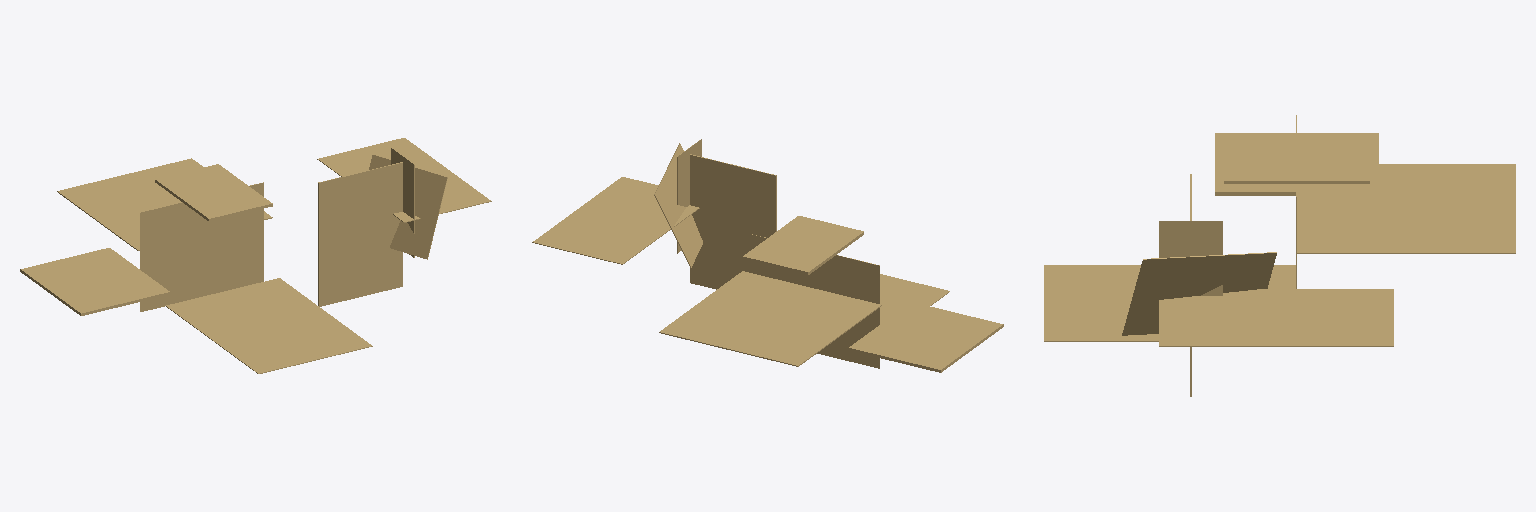
The robot description file, URDF, robot "evolved_design":
<?xml version="1.0" ?>
<robot name="evolved_design">
  <link name="base_link">
    <inertial>
      <mass value="0.001"/>
      <origin xyz="0 0 0" rpy="0 0 0"/>
      <inertia ixx="0.000001" ixy="0" ixz="0" iyy="0.000001" iyz="0" izz="0.000001"/>
    </inertial>
  </link>
  <link name="link_comp_0">
    <inertial>
      <mass value="0.768596"/>
      <origin xyz="0 0 0" rpy="0 0 0"/>
      <inertia ixx="0.034113626" ixy="0" ixz="0" iyy="0.017103133" iyz="0" izz="0.051215608"/>
    </inertial>
    <visual>
      <origin xyz="0 0 0" rpy="0 0 0"/>
      <geometry>
        <box size="0.516740 0.729796 0.002997"/>
      </geometry>
      <material name="link_comp_0_material">
        <color rgba="0.8 0.7 0.5 1"/>
      </material>
    </visual>
    <collision>
      <origin xyz="0 0 0" rpy="0 0 0"/>
      <geometry>
        <box size="0.516740 0.729796 0.002997"/>
      </geometry>
    </collision>
  </link>
  <joint name="base_link_to_link_comp_0" type="fixed">
    <parent link="base_link"/>
    <child link="link_comp_0"/>
    <origin xyz="0.258370 0.364898 0.001499" rpy="0.000000 0.000000 0.000000"/>
  </joint>
  <link name="link_comp_1">
    <inertial>
      <mass value="0.658332"/>
      <origin xyz="0 0 0" rpy="0 0 0"/>
      <inertia ixx="0.015854358" ixy="0" ixz="0" iyy="0.023740530" iyz="0" izz="0.007888647"/>
    </inertial>
    <visual>
      <origin xyz="0 0 0" rpy="0 0 0"/>
      <geometry>
        <box size="0.379171 0.004750 0.537558"/>
      </geometry>
      <material name="link_comp_1_material">
        <color rgba="0.8 0.7 0.5 1"/>
      </material>
    </visual>
    <collision>
      <origin xyz="0 0 0" rpy="0 0 0"/>
      <geometry>
        <box size="0.379171 0.004750 0.537558"/>
      </geometry>
    </collision>
  </link>
  <joint name="base_link_to_link_comp_1" type="fixed">
    <parent link="base_link"/>
    <child link="link_comp_1"/>
    <origin xyz="0.706825 0.424635 0.268779" rpy="0.000000 0.000000 0.000000"/>
  </joint>
  <link name="link_comp_2">
    <inertial>
      <mass value="0.521573"/>
      <origin xyz="0 0 0" rpy="0 0 0"/>
      <inertia ixx="0.008094898" ixy="0" ixz="0" iyy="0.021715280" iyz="0" izz="0.013621258"/>
    </inertial>
    <visual>
      <origin xyz="0 0 0" rpy="0 0 0"/>
      <geometry>
        <box size="0.559803 0.003175 0.431546"/>
      </geometry>
      <material name="link_comp_2_material">
        <color rgba="0.8 0.7 0.5 1"/>
      </material>
    </visual>
    <collision>
      <origin xyz="0 0 0" rpy="0 0 0"/>
      <geometry>
        <box size="0.559803 0.003175 0.431546"/>
      </geometry>
    </collision>
  </link>
  <joint name="base_link_to_link_comp_2" type="fixed">
    <parent link="base_link"/>
    <child link="link_comp_2"/>
    <origin xyz="0.166134 0.731884 0.215773" rpy="0.000000 0.000000 0.000000"/>
  </joint>
  <link name="link_comp_3">
    <inertial>
      <mass value="1.053972"/>
      <origin xyz="0 0 0" rpy="0 0 0"/>
      <inertia ixx="0.015850476" ixy="0" ixz="0" iyy="0.007269775" iyz="0" izz="0.023091918"/>
    </inertial>
    <visual>
      <origin xyz="0 0 0" rpy="0 0 0"/>
      <geometry>
        <box size="0.287417 0.424623 0.012700"/>
      </geometry>
      <material name="link_comp_3_material">
        <color rgba="0.8 0.7 0.5 1"/>
      </material>
    </visual>
    <collision>
      <origin xyz="0 0 0" rpy="0 0 0"/>
      <geometry>
        <box size="0.287417 0.424623 0.012700"/>
      </geometry>
    </collision>
  </link>
  <joint name="base_link_to_link_comp_3" type="fixed">
    <parent link="base_link"/>
    <child link="link_comp_3"/>
    <origin xyz="0.220309 0.732444 0.438396" rpy="0.000000 0.000000 0.000000"/>
  </joint>
  <link name="link_comp_4">
    <inertial>
      <mass value="0.102988"/>
      <origin xyz="0 0 0" rpy="0 0 0"/>
      <inertia ixx="0.001696381" ixy="0" ixz="0" iyy="0.001405224" iyz="0" izz="0.000291228"/>
    </inertial>
    <visual>
      <origin xyz="0 0 0" rpy="0 0 0"/>
      <geometry>
        <box size="0.002032 0.184199 0.404636"/>
      </geometry>
      <material name="link_comp_4_material">
        <color rgba="0.8 0.7 0.5 1"/>
      </material>
    </visual>
    <collision>
      <origin xyz="0 0 0" rpy="0 0 0"/>
      <geometry>
        <box size="0.002032 0.184199 0.404636"/>
      </geometry>
    </collision>
  </link>
  <joint name="base_link_to_link_comp_4" type="fixed">
    <parent link="base_link"/>
    <child link="link_comp_4"/>
    <origin xyz="0.897927 0.424789 0.362100" rpy="0.000000 0.000000 0.000000"/>
  </joint>
  <link name="link_comp_5">
    <inertial>
      <mass value="1.179324"/>
      <origin xyz="0 0 0" rpy="0 0 0"/>
      <inertia ixx="0.039356623" ixy="0" ixz="0" iyy="0.036522899" iyz="0" izz="0.075875550"/>
    </inertial>
    <visual>
      <origin xyz="0 0 0" rpy="0 0 0"/>
      <geometry>
        <box size="0.609600 0.632808 0.004496"/>
      </geometry>
      <material name="link_comp_5_material">
        <color rgba="0.8 0.7 0.5 1"/>
      </material>
    </visual>
    <collision>
      <origin xyz="0 0 0" rpy="0 0 0"/>
      <geometry>
        <box size="0.609600 0.632808 0.004496"/>
      </geometry>
    </collision>
  </link>
  <joint name="base_link_to_link_comp_5" type="fixed">
    <parent link="base_link"/>
    <child link="link_comp_5"/>
    <origin xyz="0.181850 1.050376 0.267793" rpy="0.000000 0.000000 0.000000"/>
  </joint>
  <link name="link_comp_6">
    <inertial>
      <mass value="1.564937"/>
      <origin xyz="0 0 0" rpy="0 0 0"/>
      <inertia ixx="0.029473396" ixy="0" ixz="0" iyy="0.021295327" iyz="0" izz="0.050731235"/>
    </inertial>
    <visual>
      <origin xyz="0 0 0" rpy="0 0 0"/>
      <geometry>
        <box size="0.403918 0.475247 0.011989"/>
      </geometry>
      <material name="link_comp_6_material">
        <color rgba="0.8 0.7 0.5 1"/>
      </material>
    </visual>
    <collision>
      <origin xyz="0 0 0" rpy="0 0 0"/>
      <geometry>
        <box size="0.403918 0.475247 0.011989"/>
      </geometry>
    </collision>
  </link>
  <joint name="base_link_to_link_comp_6" type="fixed">
    <parent link="base_link"/>
    <child link="link_comp_6"/>
    <origin xyz="-0.316227 0.732447 0.178403" rpy="0.000000 0.000000 0.000000"/>
  </joint>
  <link name="link_comp_7">
    <inertial>
      <mass value="0.291925"/>
      <origin xyz="0 0 0" rpy="0 0 0"/>
      <inertia ixx="0.006711573" ixy="0" ixz="0" iyy="0.002691589" iyz="0" izz="0.004020474"/>
    </inertial>
    <visual>
      <origin xyz="0 0 0" rpy="0 0 0"/>
      <geometry>
        <box size="0.003175 0.406518 0.332613"/>
      </geometry>
      <material name="link_comp_7_material">
        <color rgba="0.8 0.7 0.5 1"/>
      </material>
    </visual>
    <collision>
      <origin xyz="0 0 0" rpy="0 0 0"/>
      <geometry>
        <box size="0.003175 0.406518 0.332613"/>
      </geometry>
    </collision>
  </link>
  <joint name="base_link_to_link_comp_7" type="fixed">
    <parent link="base_link"/>
    <child link="link_comp_7"/>
    <origin xyz="0.901031 0.450417 0.332163" rpy="-0.083462 0.424613 0.249538"/>
  </joint>
  <link name="link_comp_8">
    <inertial>
      <mass value="0.557433"/>
      <origin xyz="0 0 0" rpy="0 0 0"/>
      <inertia ixx="0.021551886" ixy="0" ixz="0" iyy="0.007242874" iyz="0" izz="0.028793897"/>
    </inertial>
    <visual>
      <origin xyz="0 0 0" rpy="0 0 0"/>
      <geometry>
        <box size="0.394854 0.681134 0.003048"/>
      </geometry>
      <material name="link_comp_8_material">
        <color rgba="0.8 0.7 0.5 1"/>
      </material>
    </visual>
    <collision>
      <origin xyz="0 0 0" rpy="0 0 0"/>
      <geometry>
        <box size="0.394854 0.681134 0.003048"/>
      </geometry>
    </collision>
  </link>
  <joint name="base_link_to_link_comp_8" type="fixed">
    <parent link="base_link"/>
    <child link="link_comp_8"/>
    <origin xyz="1.048575 0.672252 0.324326" rpy="0.000000 0.000000 0.000000"/>
  </joint>
</robot>

--- Facts derived from the render (not from the file) ---
3 views of the same robot in one strip: view 1: azimuth 30°, elevation 25°; view 2: azimuth 150°, elevation 25°; view 3: azimuth 270°, elevation 25° (orthographic).
Robot: evolved_design — 10 links, 9 joints (9 fixed); root link base_link; default pose: all joints at 0.
Links seen in each view (by area): view 1: link_comp_0, link_comp_1, link_comp_2, link_comp_6, link_comp_5, link_comp_3, link_comp_8, link_comp_7, link_comp_4; view 2: link_comp_5, link_comp_1, link_comp_8, link_comp_6, link_comp_2, link_comp_3, link_comp_7, link_comp_0, link_comp_4; view 3: link_comp_5, link_comp_8, link_comp_0, link_comp_3, link_comp_7, link_comp_6, link_comp_4.
Boxes of the visible links, x1,y1,x2,y2 form: link_comp_0: (166,278,372,373); link_comp_1: (318,162,402,306); link_comp_2: (140,182,263,311); link_comp_6: (20,248,169,315); link_comp_5: (57,158,272,250); link_comp_3: (155,164,272,221); link_comp_8: (317,138,491,222); link_comp_7: (369,155,447,259); link_comp_4: (391,148,414,257); link_comp_5: (659,271,881,366); link_comp_1: (690,154,776,289); link_comp_8: (532,177,699,264); link_comp_6: (849,302,1003,372); link_comp_2: (752,234,879,368); link_comp_3: (743,216,863,274); link_comp_7: (654,143,702,267); link_comp_0: (880,274,949,323); link_comp_4: (677,139,701,253); link_comp_5: (1297,164,1515,253); link_comp_8: (1159,289,1393,346); link_comp_0: (1044,265,1295,341); link_comp_3: (1224,139,1369,183); link_comp_7: (1122,252,1276,335); link_comp_6: (1215,133,1378,195); link_comp_4: (1159,221,1222,295).
Size in the robot's own frame: 1.76 by 1.37 by 0.5644 metres.
Geometry: primitives only (box / cylinder / sphere), no mesh files.